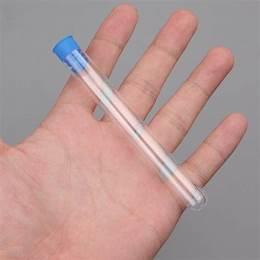Test tube: (34, 24, 212, 221)
